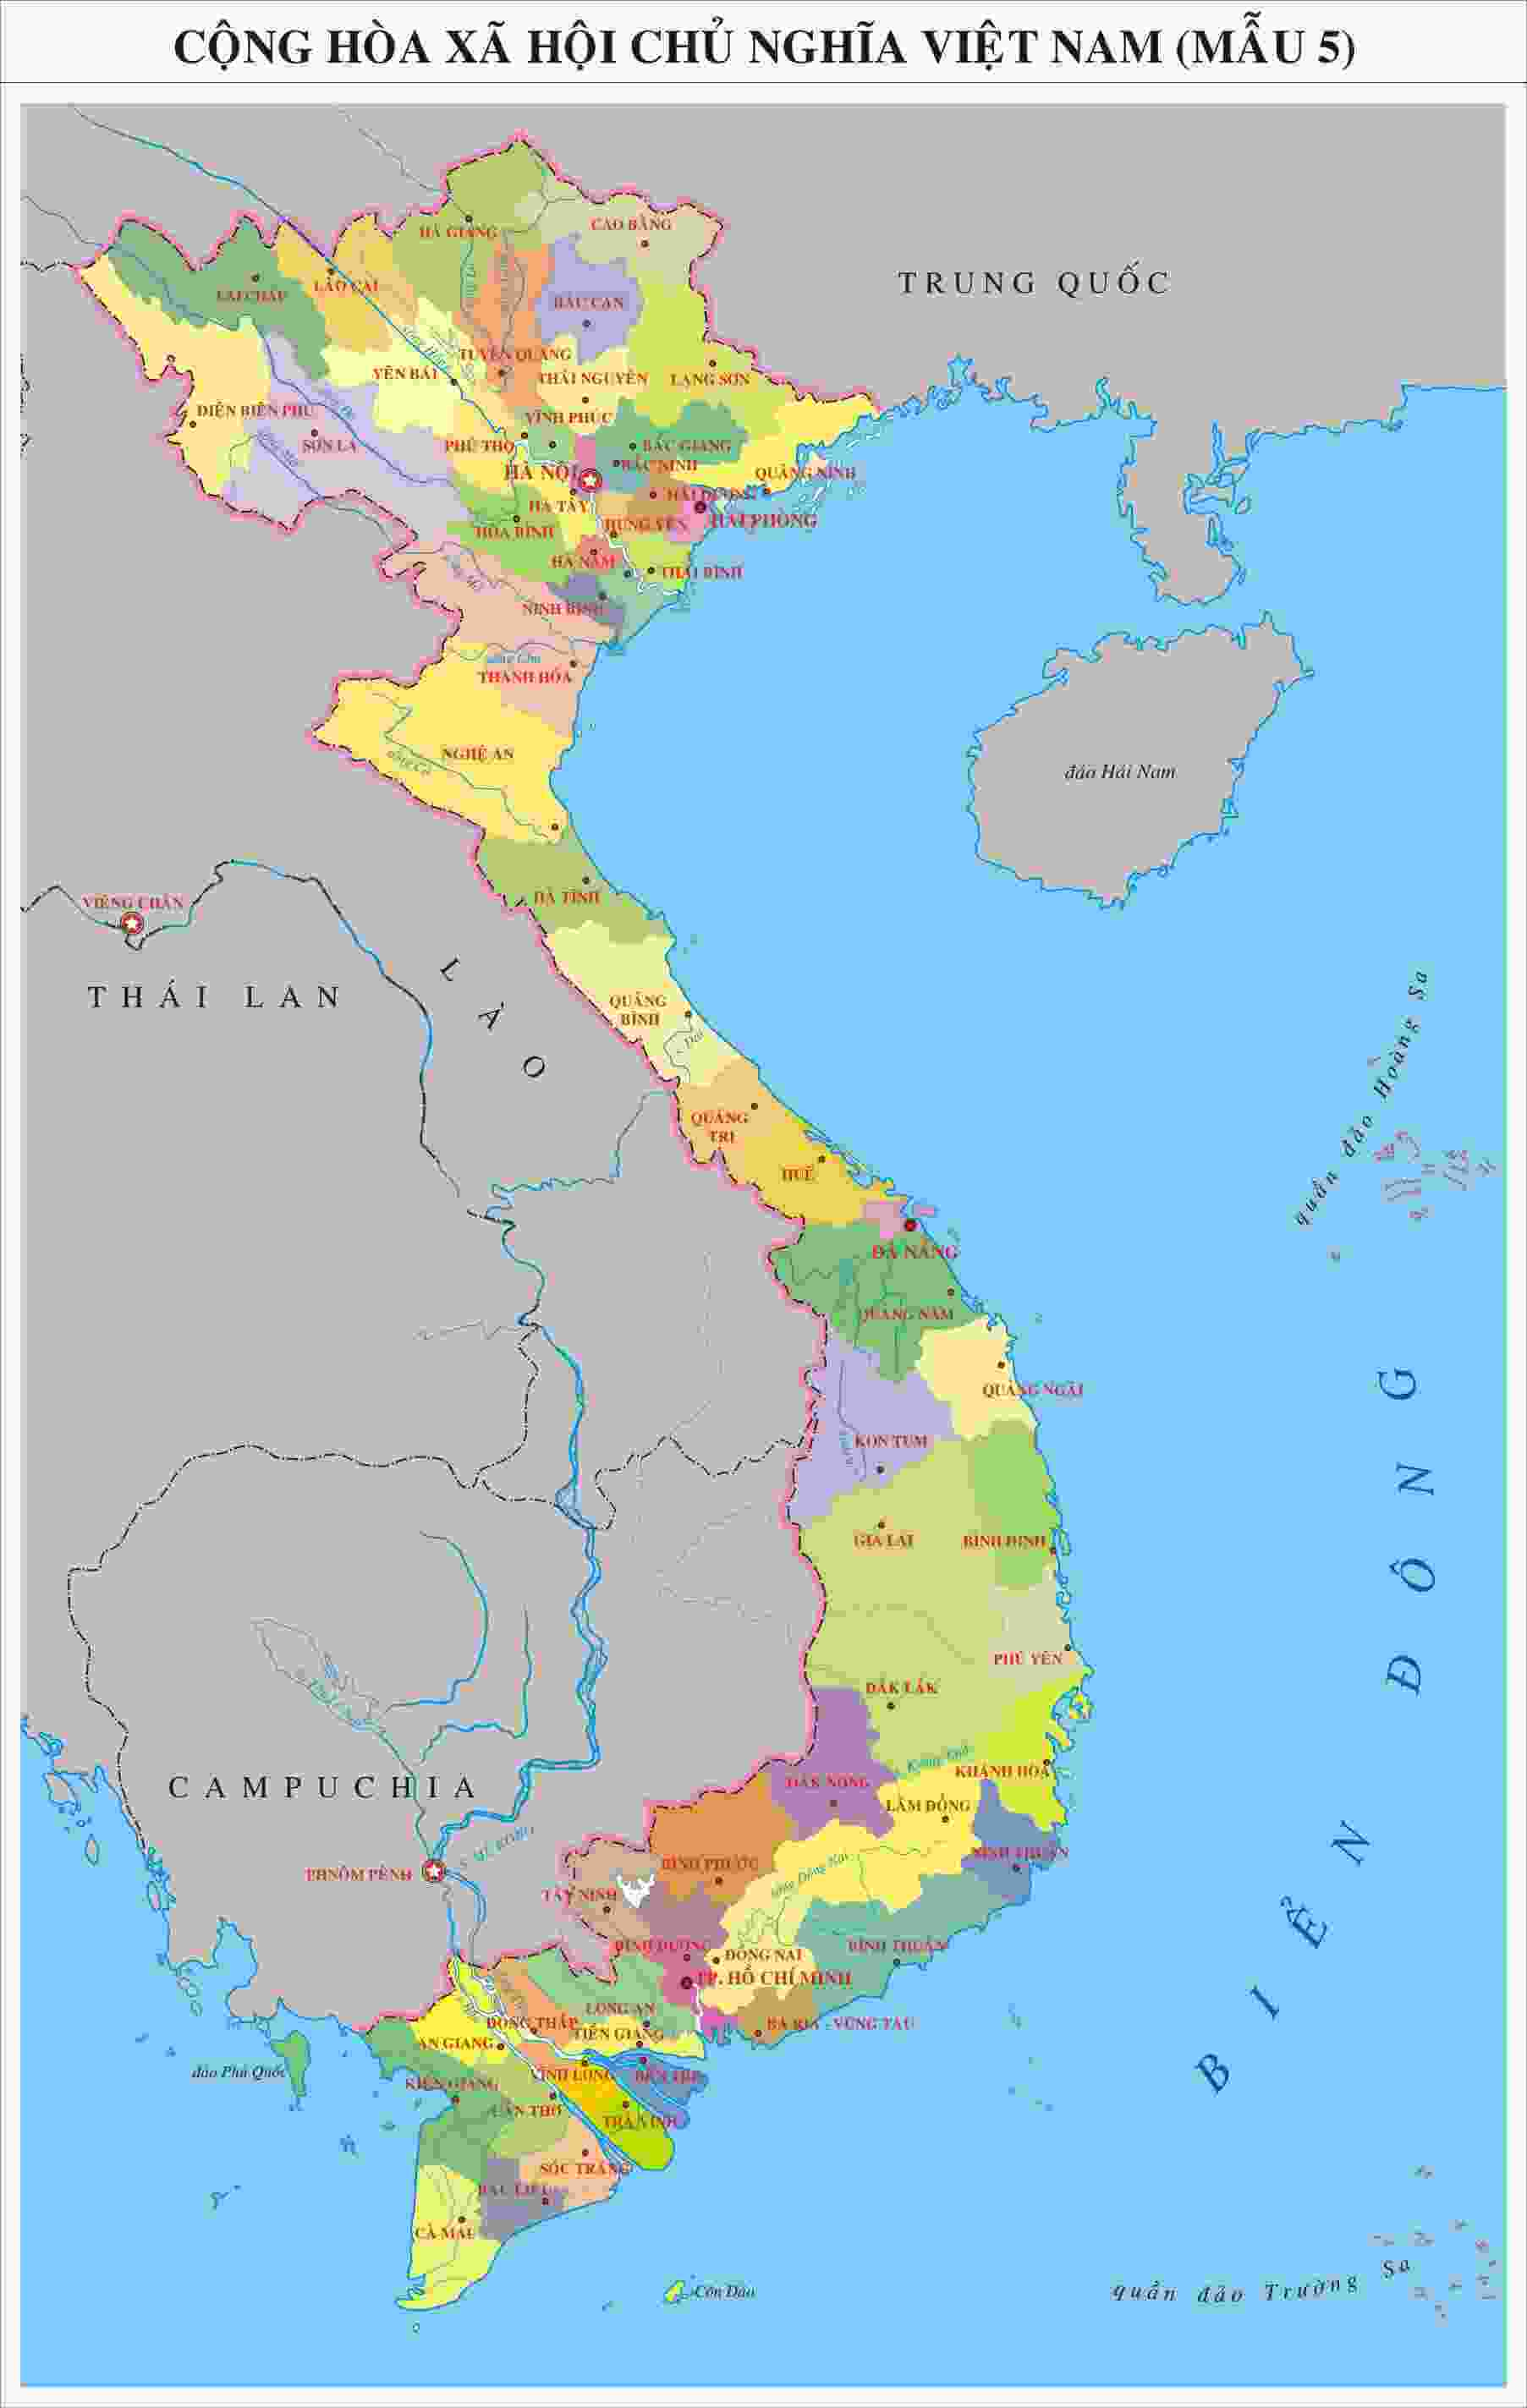Island: (1102, 2152, 1495, 2380), (1267, 953, 1499, 1265)
